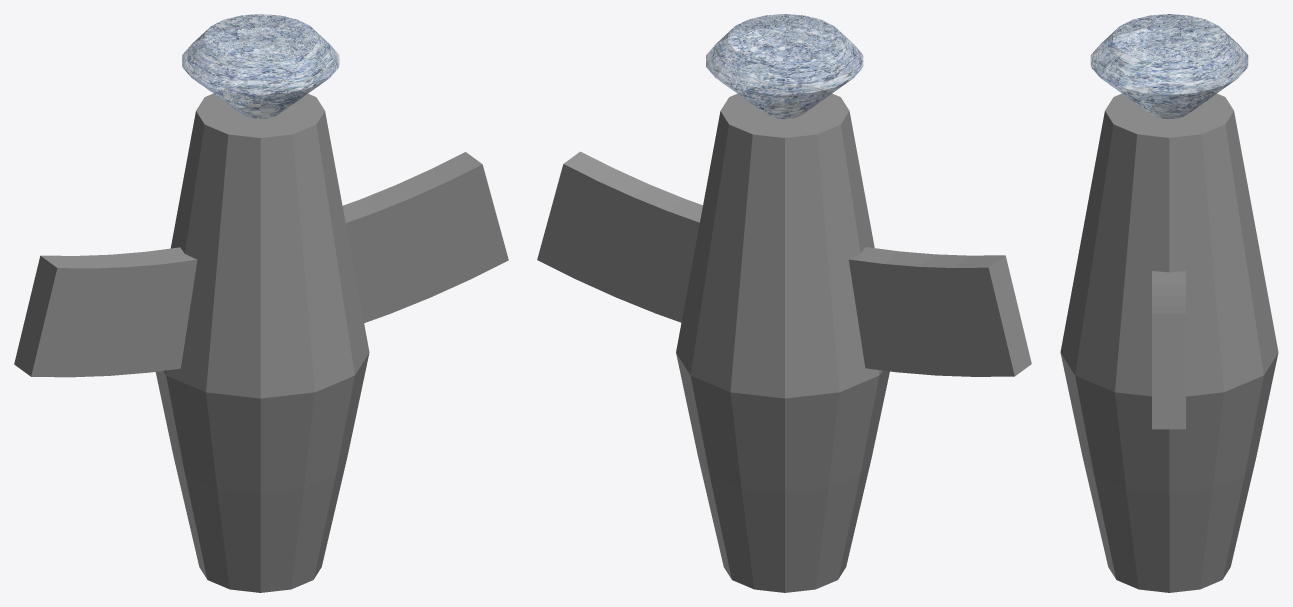
File: totemik.FBX
3 views of the same model, side by side, from view 1: azimuth 30°, elevation 25°; view 2: azimuth 150°, elevation 25°; view 3: azimuth 270°, elevation 25° (orthographic).
Parts seen in each view (by area): view 1: Ramie_001, Diament_001; view 2: Ramie_001, Diament_001; view 3: Ramie_001, Diament_001.
Part boxes in pixels (<box>): Ramie_001: <box>14,84,508,592</box>; Diament_001: <box>182,14,339,119</box>; Ramie_001: <box>537,84,1031,592</box>; Diament_001: <box>706,14,863,119</box>; Ramie_001: <box>1060,84,1278,592</box>; Diament_001: <box>1090,14,1248,119</box>.
Size of the model in its own units: 13.33 by 14.1 by 5.27.
